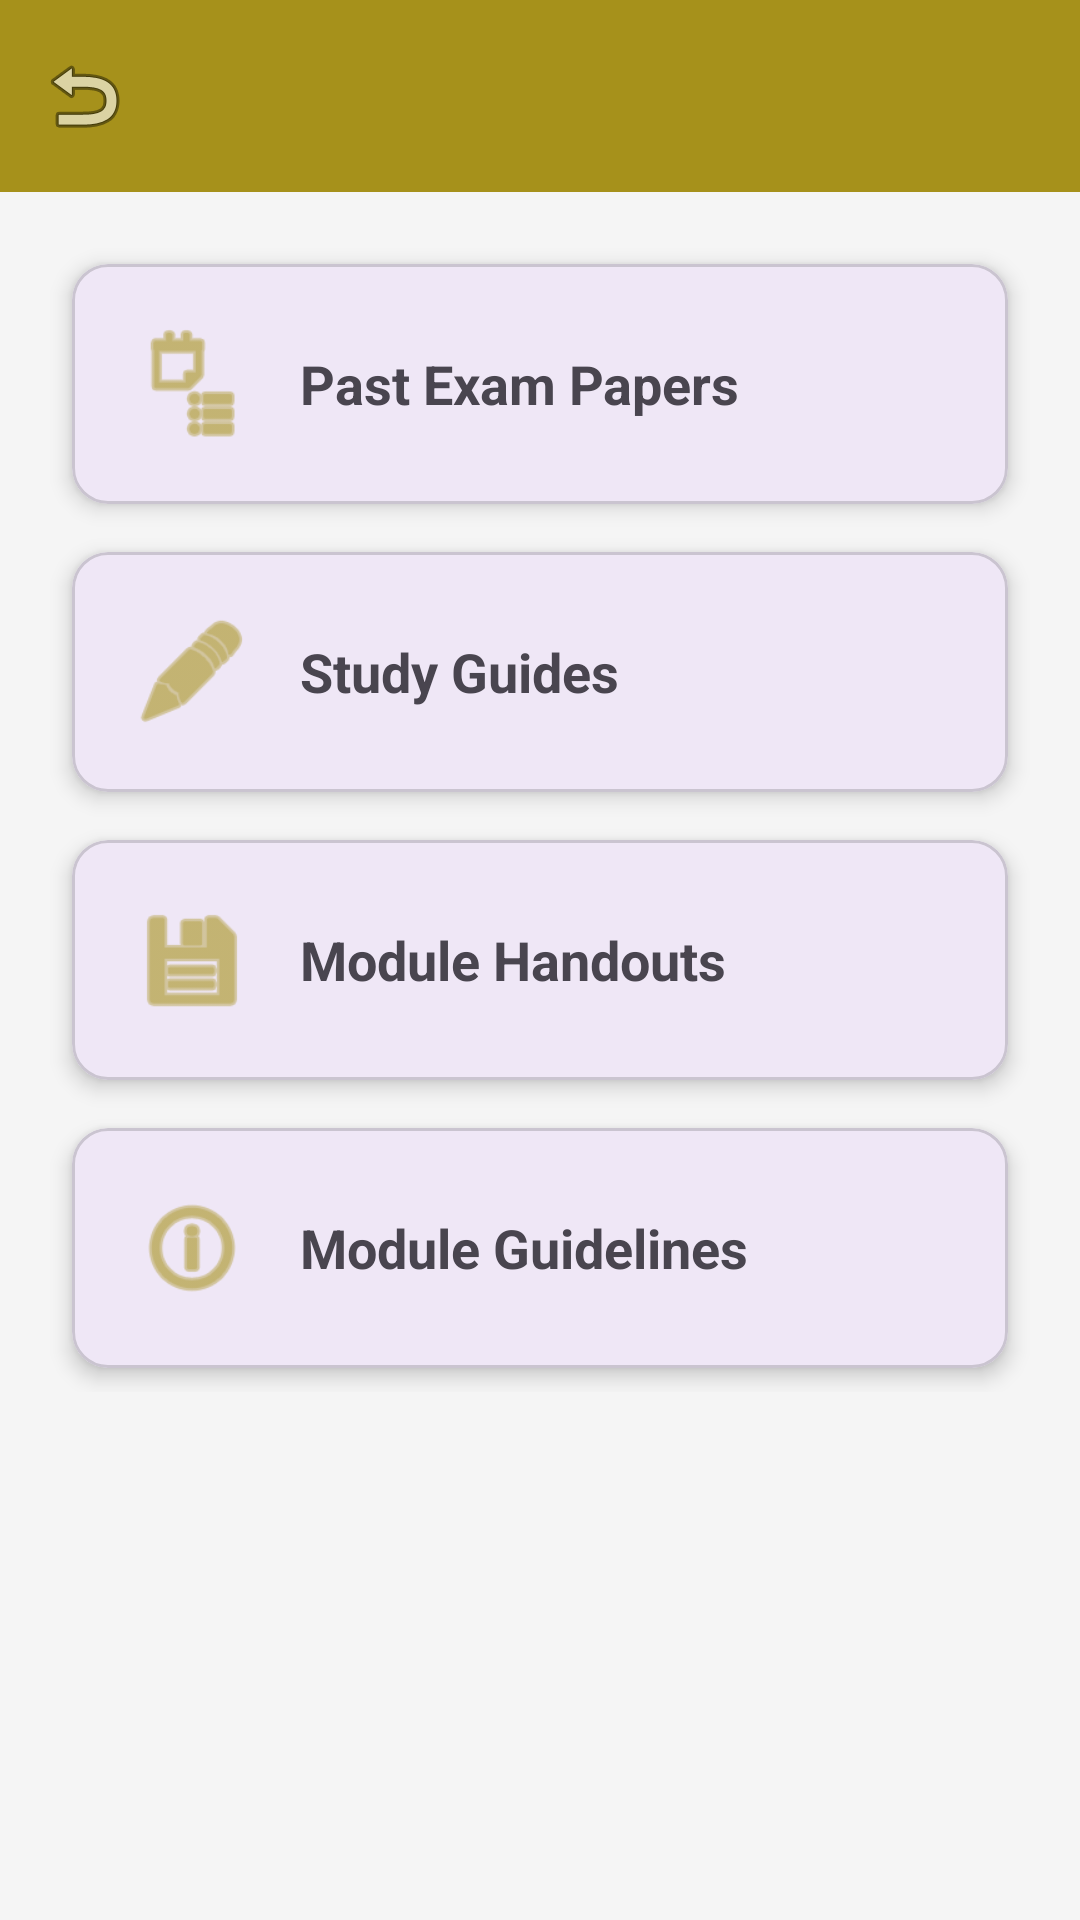

Icons on this 1080×1920 Android screen, each with the point to tap as [x,y]:
agenda: [192,383]
edit: [191,671]
info details: [192,1248]
save: [192,960]
